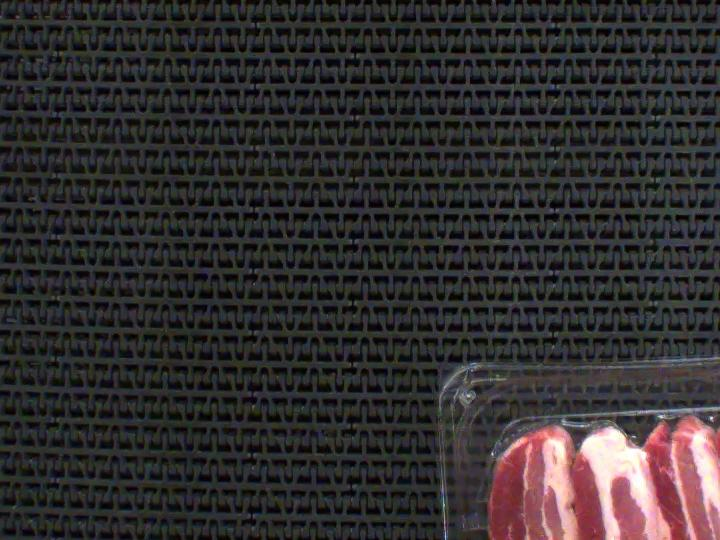unsealed: (479, 402, 643, 461)
